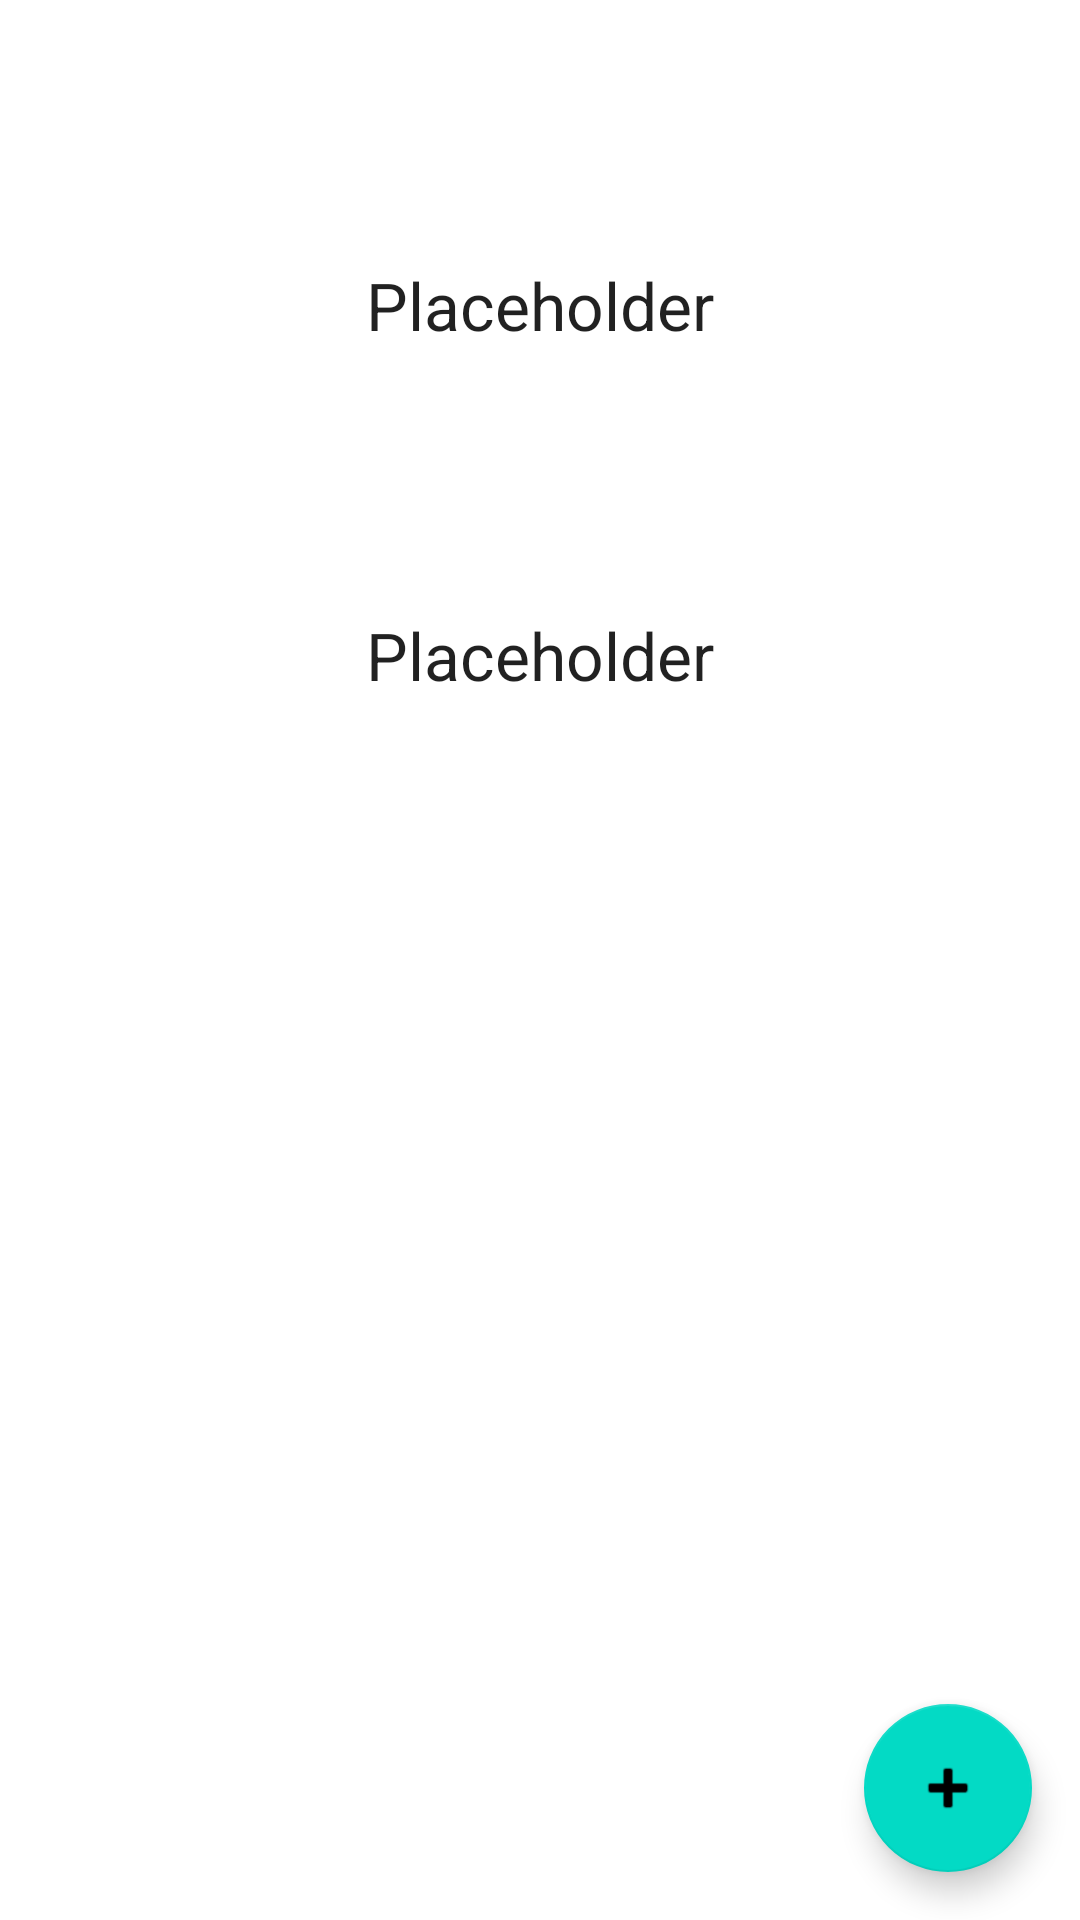

Named icons in this screenshot (1080px×1920px) and their centers, (x,y):
New Game: (948,1788)
